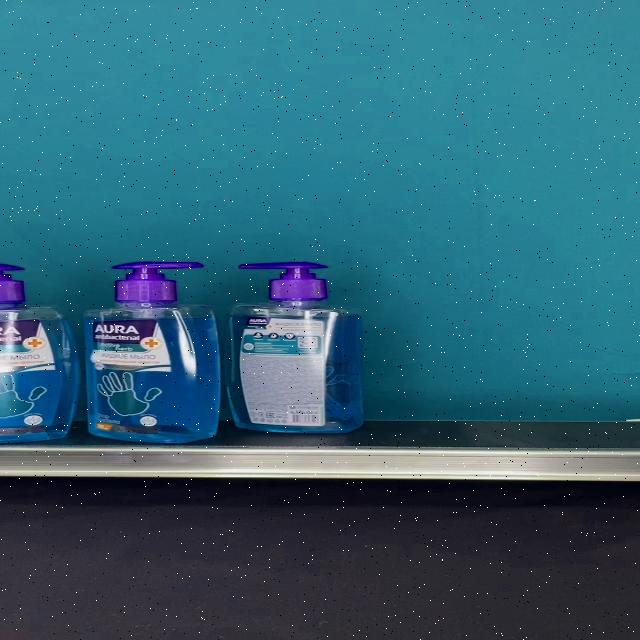Bottle: (84, 260, 220, 442), (222, 262, 364, 434)
Cap: (113, 261, 204, 302), (236, 262, 329, 302)
